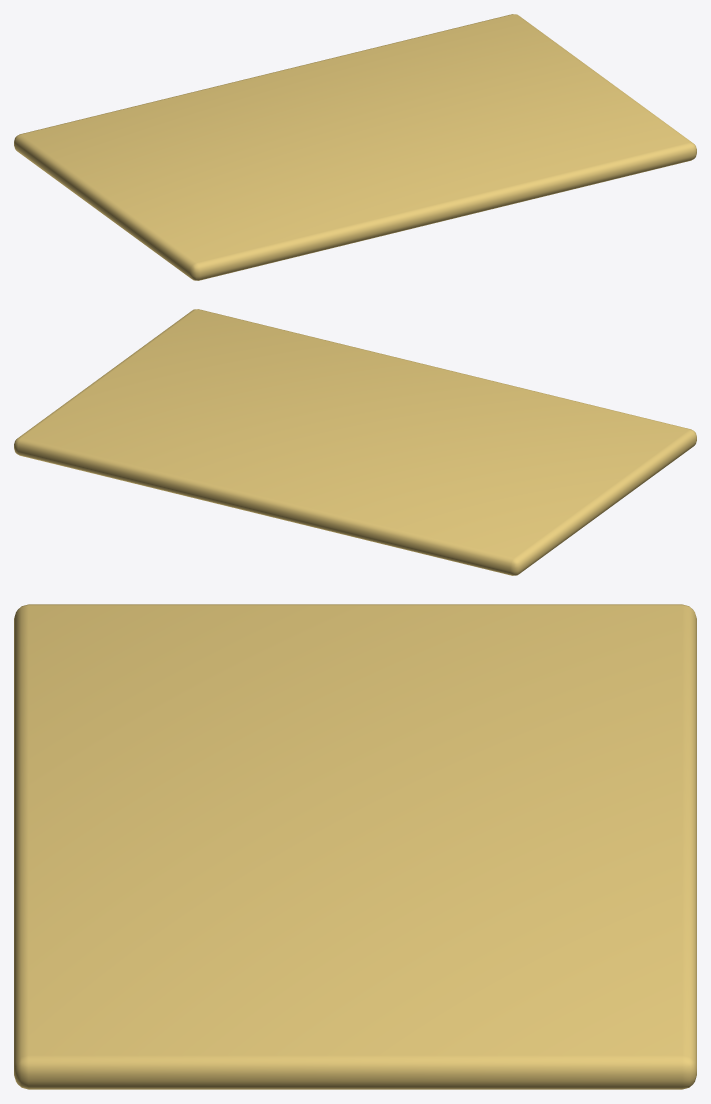
File: welcome-mat.glb
The picture shows the model from 3 angles, top to bottom: view 1: azimuth 30°, elevation 25°; view 2: azimuth 150°, elevation 25°; view 3: azimuth 270°, elevation 25°; orthographic projection. The views are drawn at different scales.
Parts seen in each view (by area): view 1: rug.002; view 2: rug.002; view 3: rug.002.
Boxes of the visible parts, <box> form: rug.002: <box>14,14,696,280</box>; rug.002: <box>14,309,696,575</box>; rug.002: <box>14,604,696,1089</box>.
Size of the model in its own units: 1.2 by 0.04 by 0.75.
